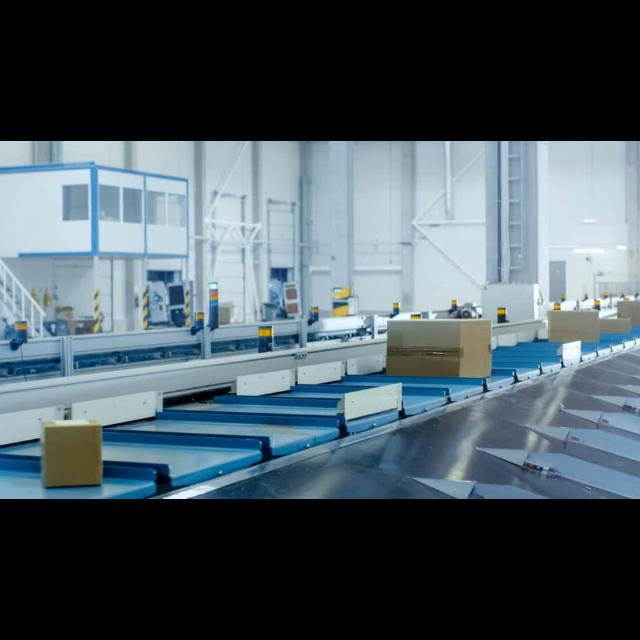box: (384, 318, 492, 378), (42, 419, 104, 489), (546, 310, 600, 344), (618, 299, 640, 329), (600, 318, 630, 334)
